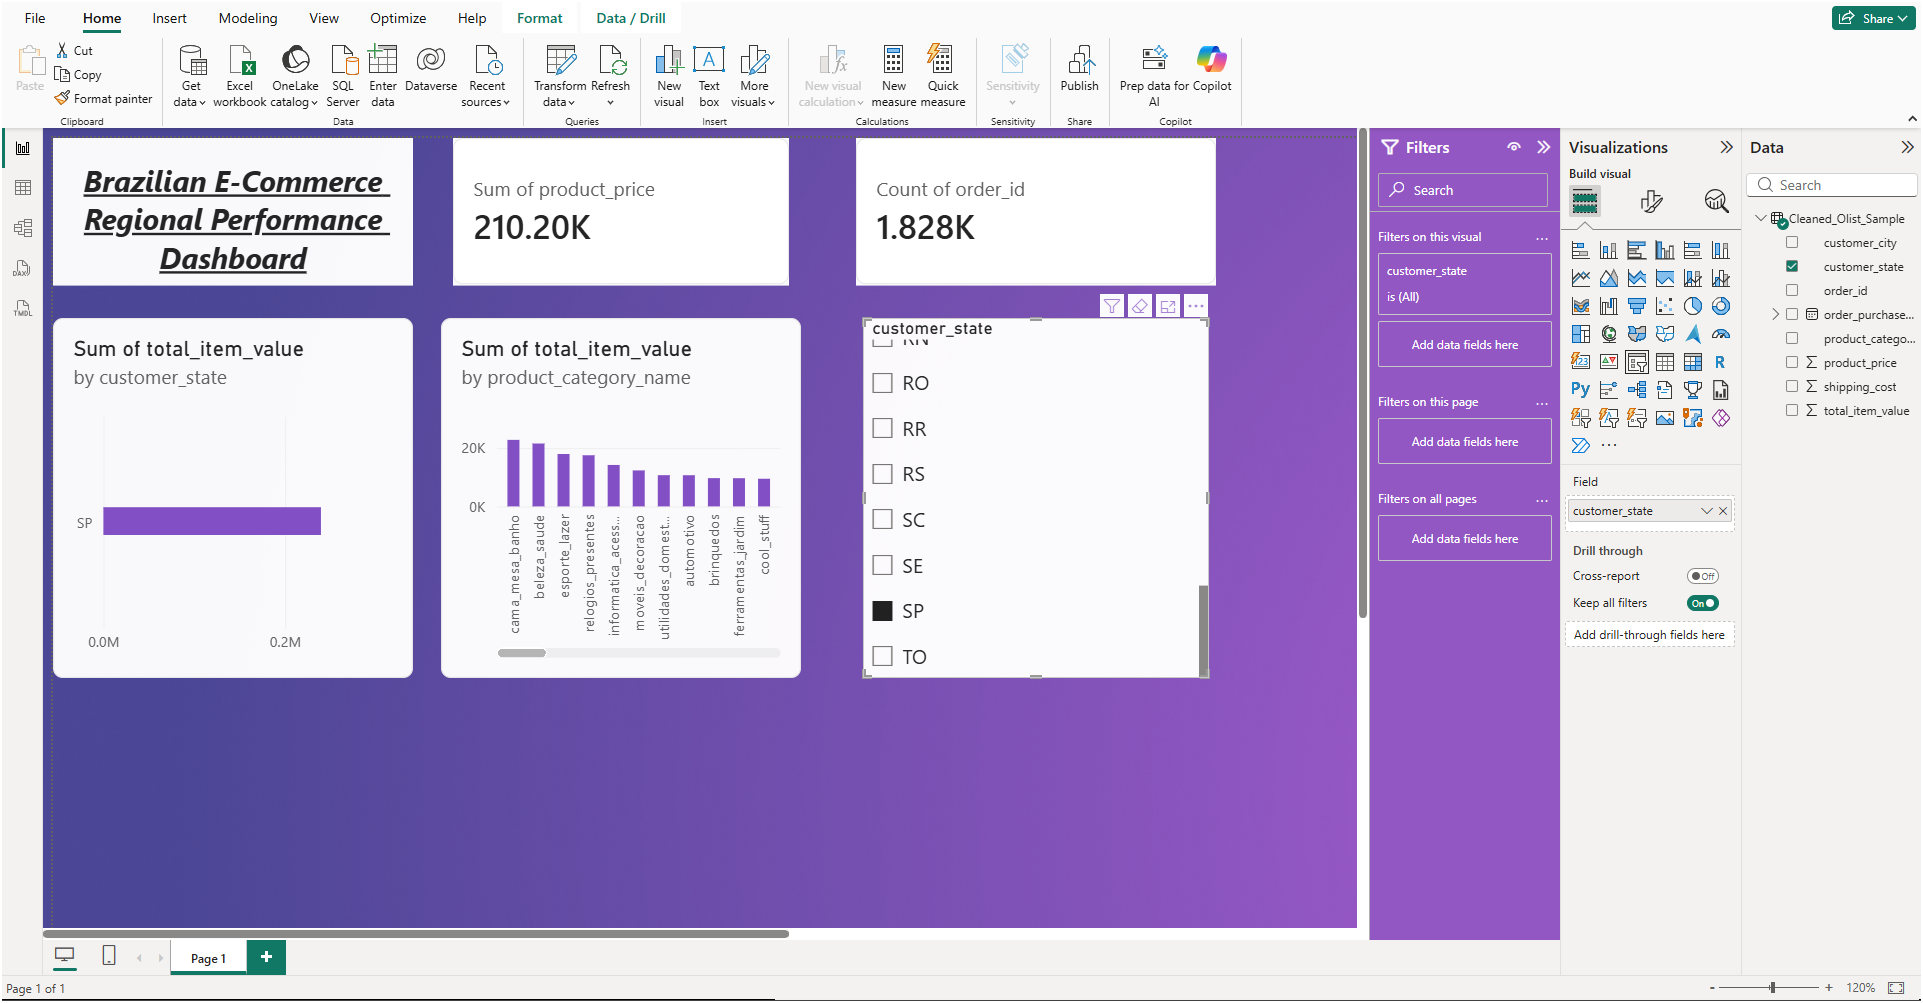

What the dashboard file says about the page in this screenshot:
{"tool":"powerbi","page":{"name":"Page 1","canvas":[1920,1080],"ordinal":0},"visuals":[{"type":"cardVisual","fields":{"Data":["Sum(Cleaned_Olist_Sample.product_price)"]},"box":[485,0,280,150],"z":0},{"type":"cardVisual","fields":{"Data":["Count(Cleaned_Olist_Sample.order_id)"]},"box":[765,0,300,150],"z":1},{"type":"clusteredBarChart","fields":{"Category":["Cleaned_Olist_Sample.customer_state"],"Y":["Sum(Cleaned_Olist_Sample.total_item_value)"]},"box":[0,150,300,300],"z":2},{"type":"clusteredColumnChart","fields":{"Category":["Cleaned_Olist_Sample.product_category_name"],"Y":["Sum(Cleaned_Olist_Sample.total_item_value)"]},"box":[377.5,150,300,300],"z":3},{"type":"slicer","fields":{"Values":["Cleaned_Olist_Sample.customer_state"]},"box":[765,150,300,300],"z":4},{"type":"textbox","box":[0,0,510,87.8],"z":7}]}

Visuals, with their boxes on the page's 1920x1080 design canvas (x1, y1, x2, y2). These are canvas units, not pixel positions in the 1923x1003 screenshot, which may show the page scaled, cropped or inside an application window:
cardVisual - Sum(Cleaned_Olist_Sample.product_price): [x1=485, y1=0, x2=765, y2=150]
cardVisual - Count(Cleaned_Olist_Sample.order_id): [x1=765, y1=0, x2=1065, y2=150]
clusteredBarChart - Cleaned_Olist_Sample.customer_state x Sum(Cleaned_Olist_Sample.total_item_value): [x1=0, y1=150, x2=300, y2=450]
clusteredColumnChart - Cleaned_Olist_Sample.product_category_name x Sum(Cleaned_Olist_Sample.total_item_value): [x1=378, y1=150, x2=678, y2=450]
slicer - Cleaned_Olist_Sample.customer_state: [x1=765, y1=150, x2=1065, y2=450]
textbox: [x1=0, y1=0, x2=510, y2=88]
